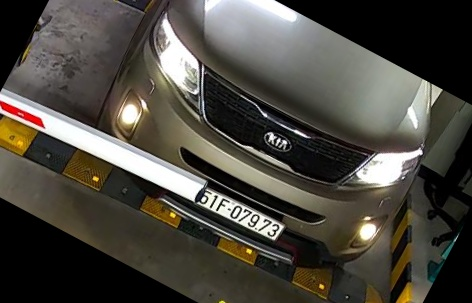plate: (194, 183, 292, 246)
